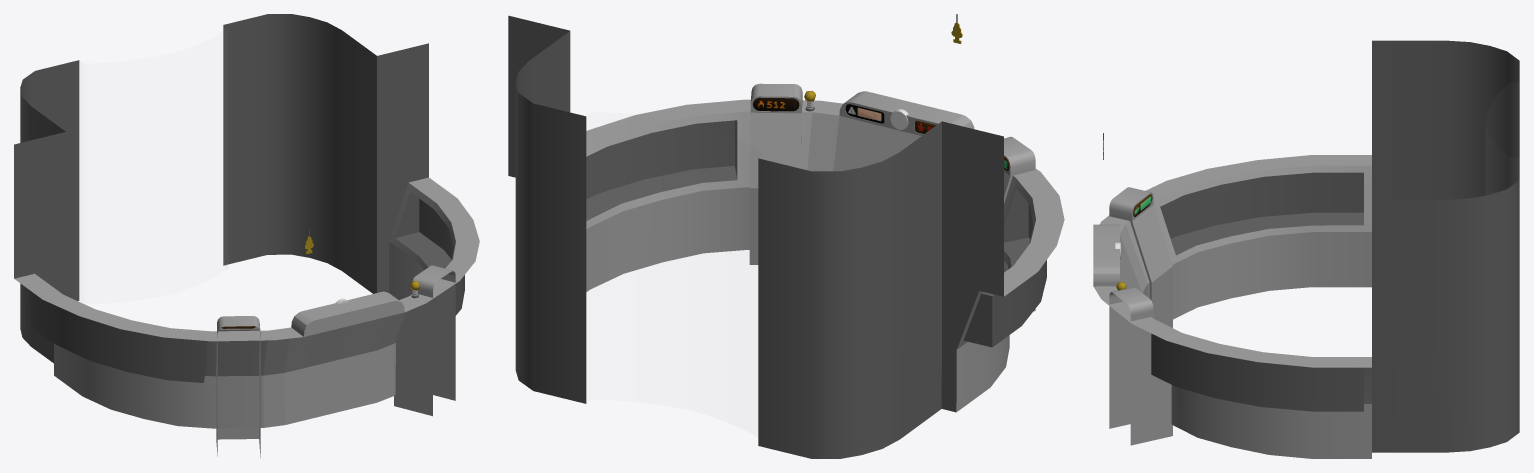
File: SM_Dashboard.fbx
3 renders of one model, left to right at view 1: azimuth 30°, elevation 25°; view 2: azimuth 150°, elevation 25°; view 3: azimuth 270°, elevation 25°, orthographic. The views are drawn at different scales.
Parts seen in each view (by area): view 1: ControlsBase, HarvestSocket, HealSocket; view 2: ControlsBase, HarvestSocket, HealSocket; view 3: ControlsBase, HarvestSocket, HealSocket.
Part boxes in pixels (left/top/right/bottom): ControlsBase: left=14, top=14, right=479, bottom=428; HarvestSocket: left=394, top=265, right=455, bottom=416; HealSocket: left=216, top=316, right=260, bottom=457; ControlsBase: left=508, top=15, right=1064, bottom=458; HarvestSocket: left=749, top=83, right=802, bottom=264; HealSocket: left=1004, top=136, right=1035, bottom=311; ControlsBase: left=1093, top=40, right=1519, bottom=458; HarvestSocket: left=1109, top=287, right=1172, bottom=445; HealSocket: left=1109, top=187, right=1172, bottom=327.
Bounding box in the file's own units: 7.99 × 4.64 × 6.77.
Materials: 3 (2 with a texture image).
